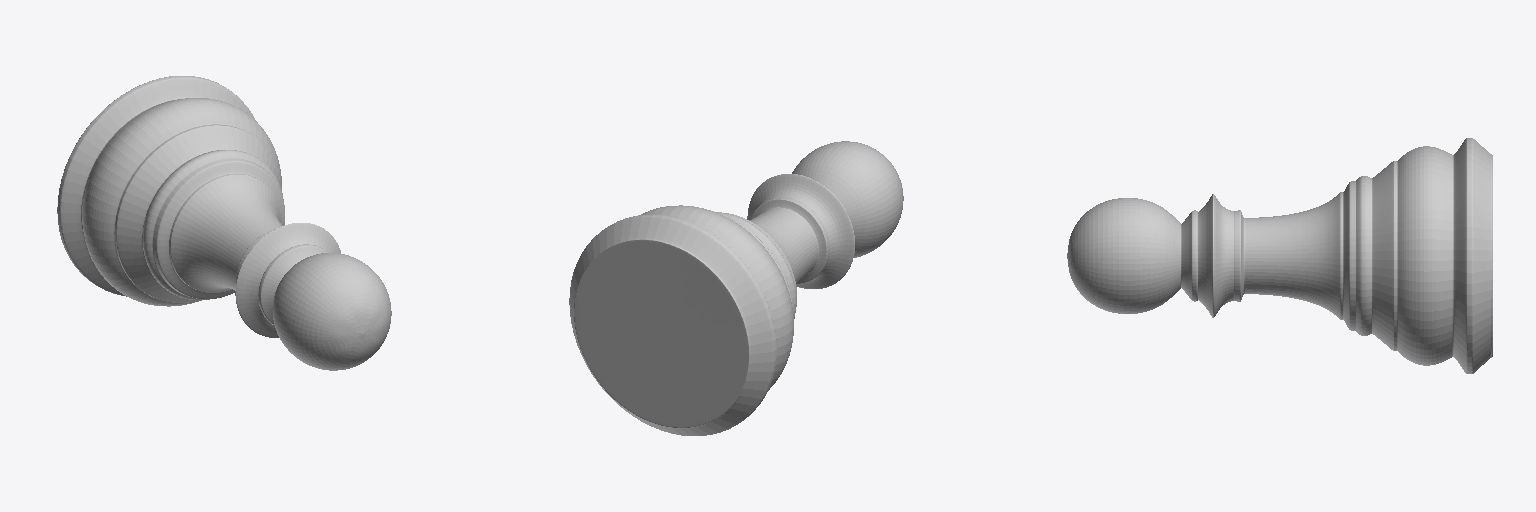
The model's file is pawn.obj.
3 views of the same model, side by side, from view 1: azimuth 30°, elevation 25°; view 2: azimuth 150°, elevation 25°; view 3: azimuth 270°, elevation 25° (orthographic).
Visible parts, largest first — view 1: 12931_WoodenChessPawnSideA_v1_l3; view 2: 12931_WoodenChessPawnSideA_v1_l3; view 3: 12931_WoodenChessPawnSideA_v1_l3.
Part boxes in pixels (bbox=[...]): 12931_WoodenChessPawnSideA_v1_l3: bbox=[57, 76, 391, 370]; 12931_WoodenChessPawnSideA_v1_l3: bbox=[569, 141, 903, 435]; 12931_WoodenChessPawnSideA_v1_l3: bbox=[1067, 138, 1492, 373].
Bounding box in the file's own units: 4.47 × 4.47 × 8.03.